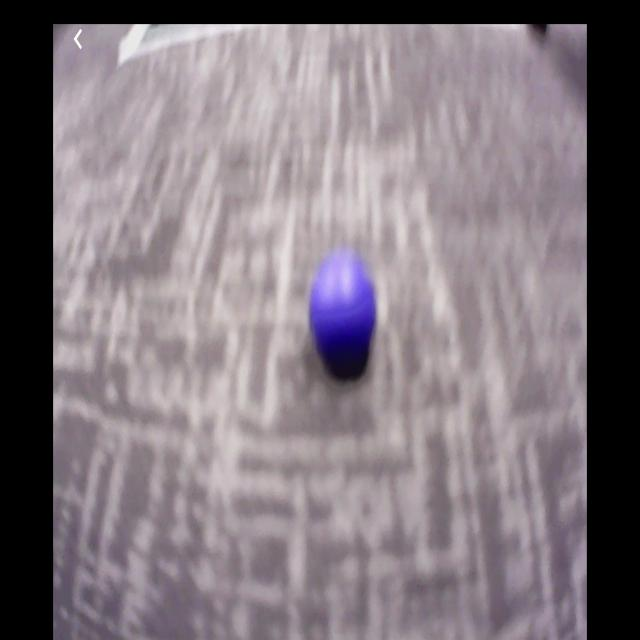ball: (312, 253, 375, 358)
